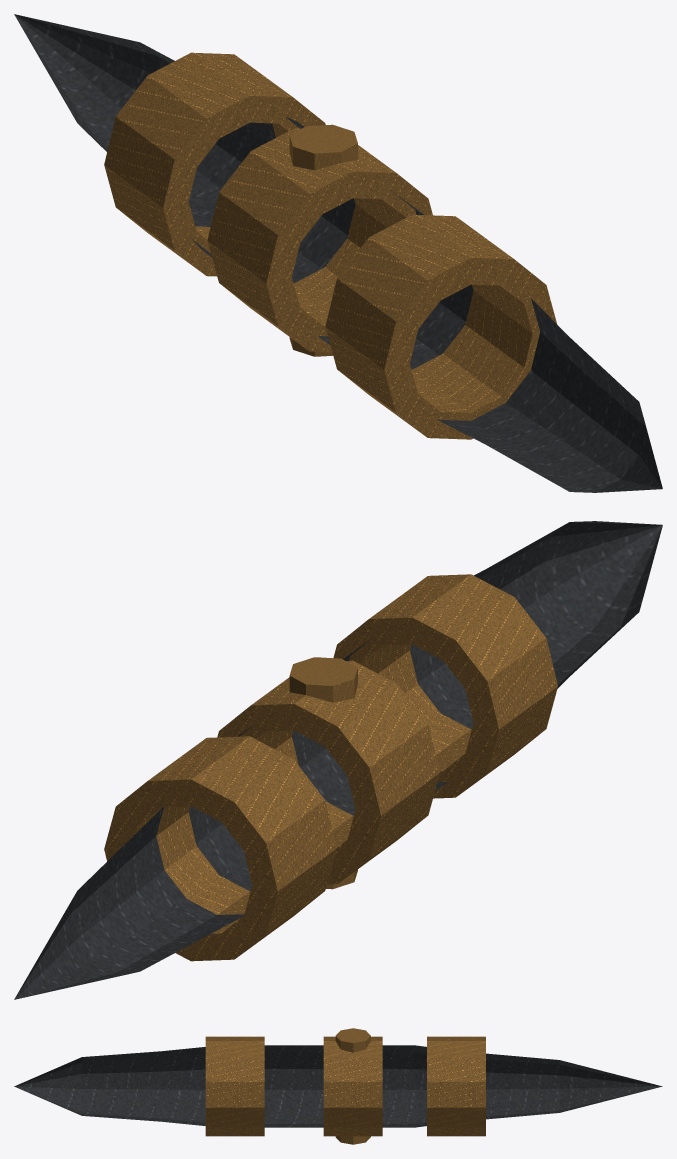
File: chronal-compact-dart-ready.glb
3 views of the same model, one above another, from view 1: azimuth 30°, elevation 25°; view 2: azimuth 150°, elevation 25°; view 3: azimuth 270°, elevation 25° (orthographic). The views are drawn at different scales.
Parts seen in each view (by area): view 1: Compact double-ended dart, Dart brass locking collar, Dart brass locking collar.001, Dart brass locking collar.002, Dart collar stud.001; view 2: Compact double-ended dart, Dart brass locking collar.002, Dart brass locking collar, Dart brass locking collar.001, Dart collar stud.001; view 3: Compact double-ended dart, Dart brass locking collar, Dart brass locking collar.002, Dart brass locking collar.001, Dart collar stud.001, Dart collar stud.
Boxes of the visible parts, bbox=[...] form: Compact double-ended dart: bbox=[14, 14, 662, 492]; Dart brass locking collar: bbox=[325, 214, 557, 439]; Dart brass locking collar.001: bbox=[207, 128, 432, 352]; Dart brass locking collar.002: bbox=[104, 52, 325, 276]; Dart collar stud.001: bbox=[289, 124, 357, 170]; Compact double-ended dart: bbox=[14, 521, 662, 999]; Dart brass locking collar.002: bbox=[104, 736, 336, 961]; Dart brass locking collar: bbox=[333, 574, 557, 798]; Dart brass locking collar.001: bbox=[217, 660, 439, 884]; Dart collar stud.001: bbox=[289, 657, 357, 702]; Compact double-ended dart: bbox=[14, 1045, 662, 1127]; Dart brass locking collar: bbox=[205, 1036, 264, 1136]; Dart brass locking collar.002: bbox=[427, 1036, 485, 1136]; Dart brass locking collar.001: bbox=[323, 1036, 382, 1136]; Dart collar stud.001: bbox=[335, 1028, 370, 1052]; Dart collar stud: bbox=[335, 1136, 370, 1144].
Bounding box in the file's own units: 0.034 × 0.038 × 0.22.
2 materials, 2 textured.
